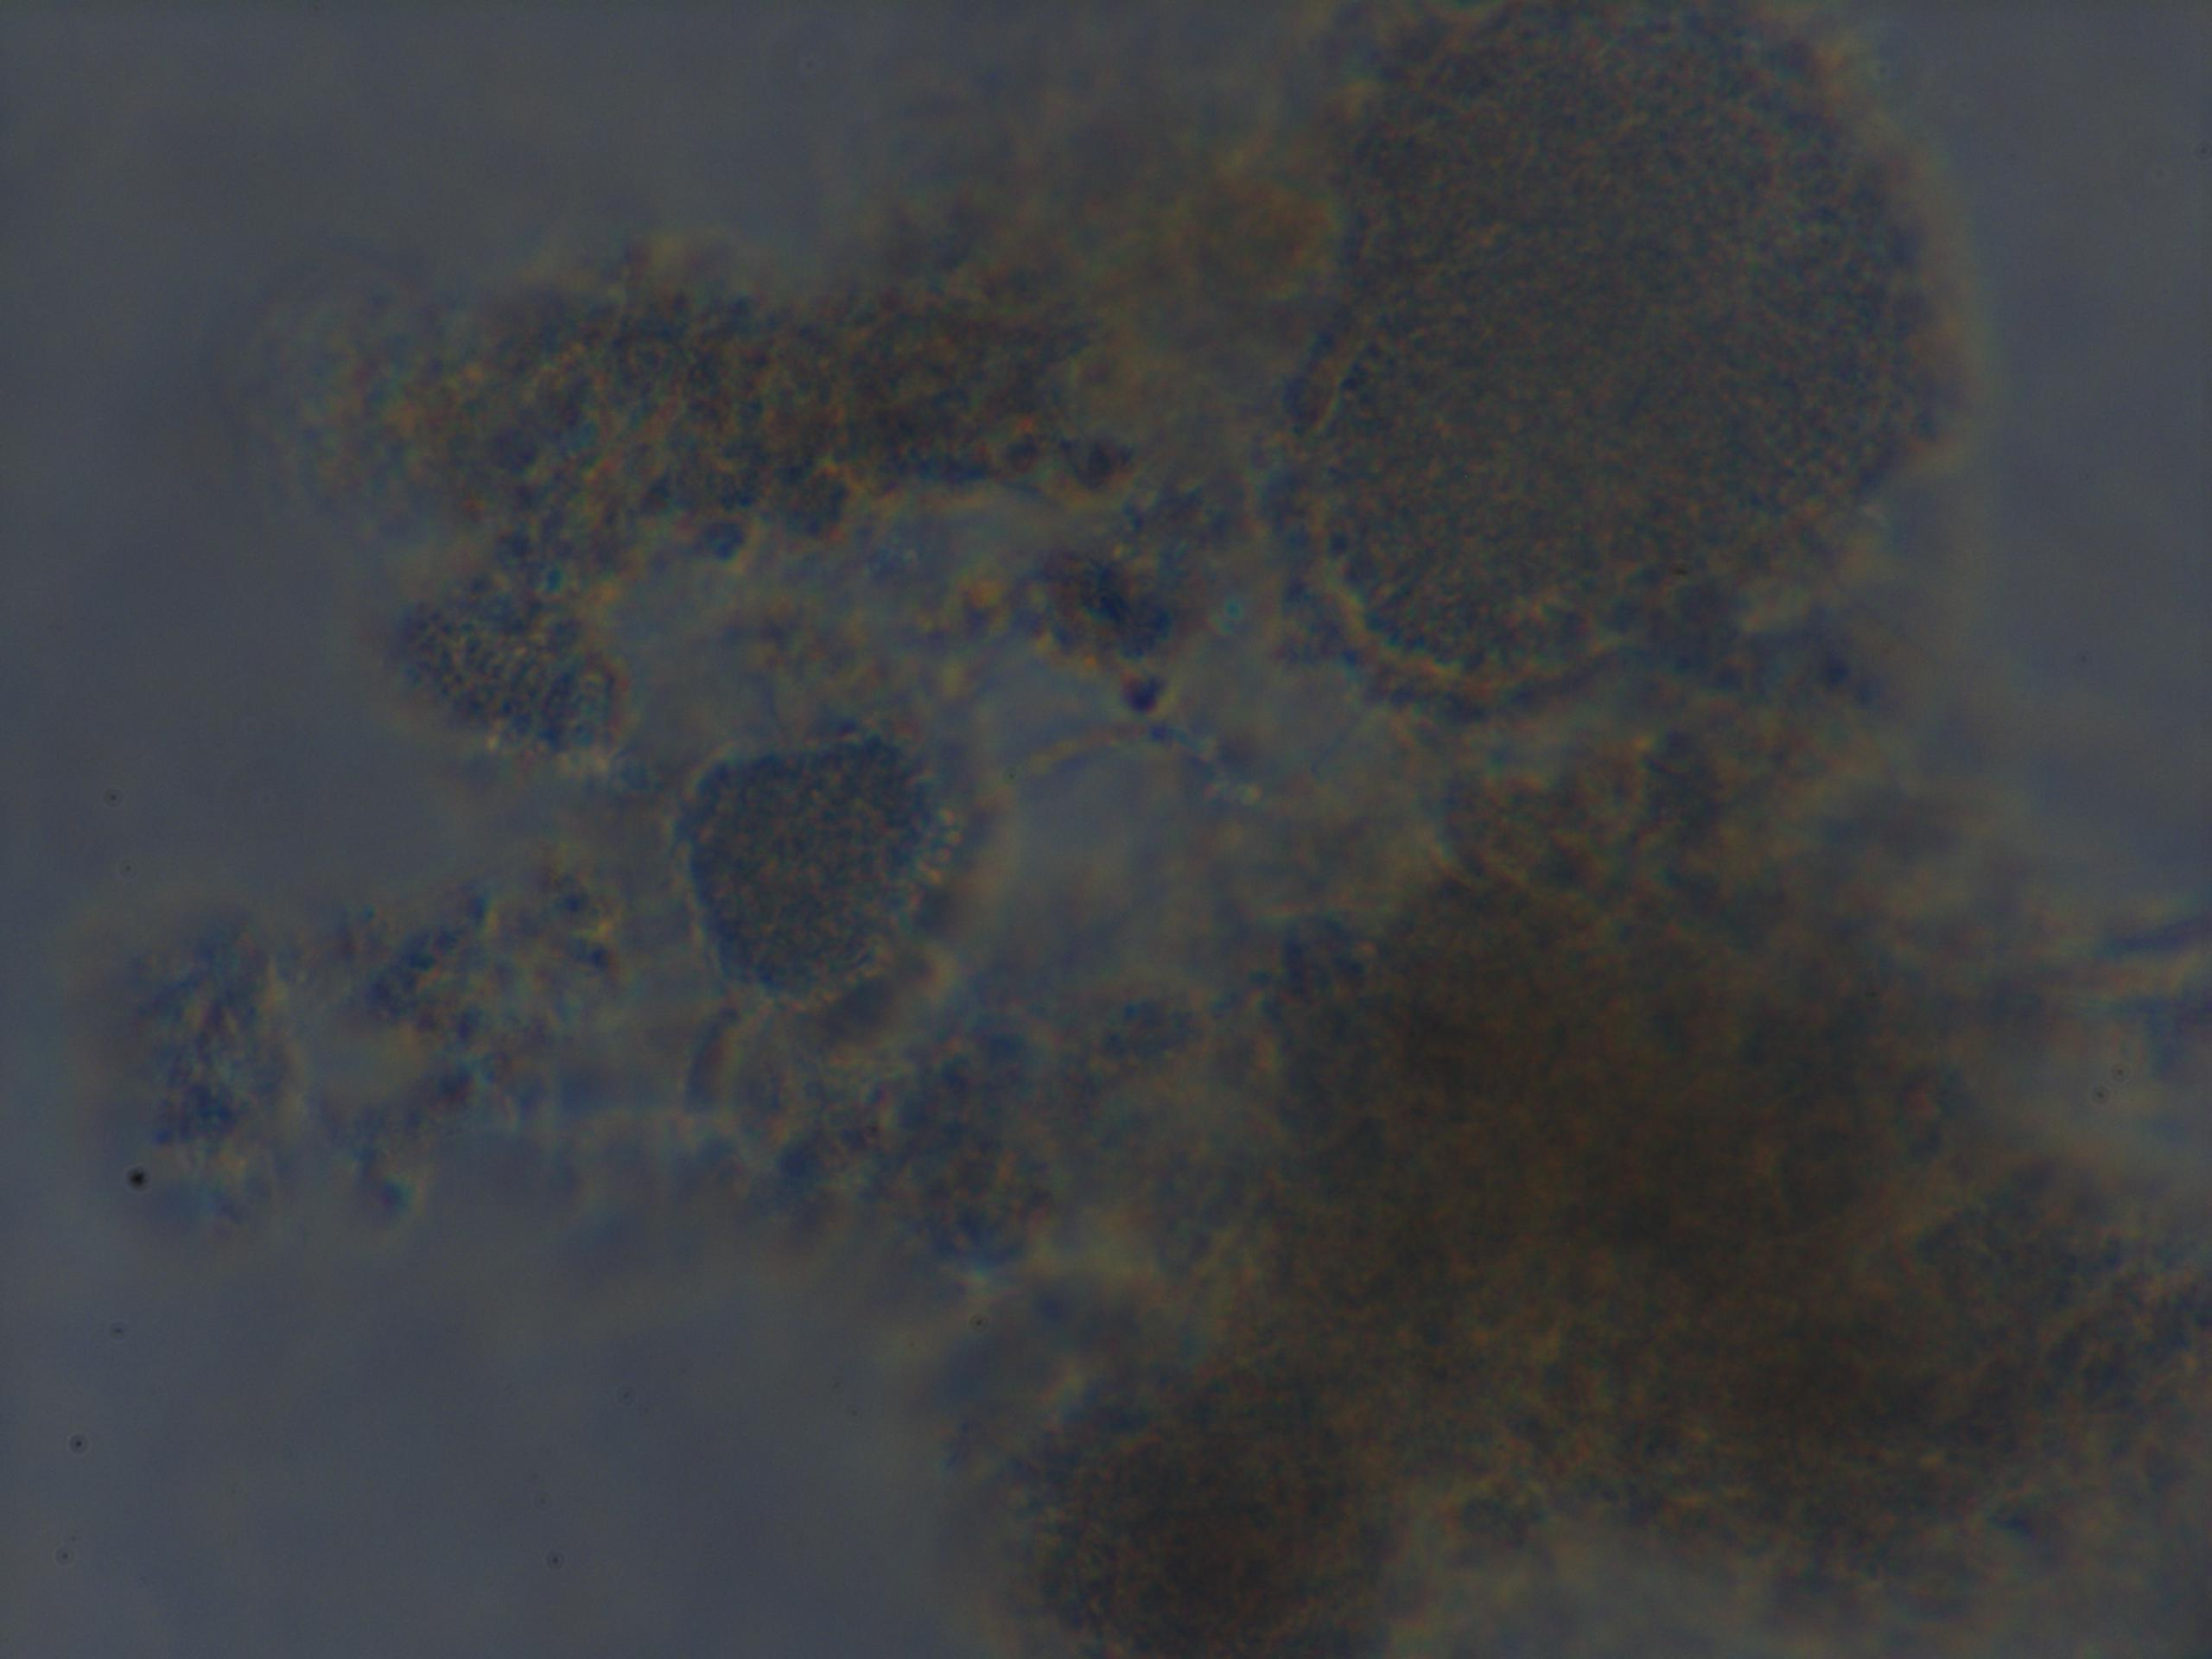spherical_floc: (1019, 774, 2212, 1659)
